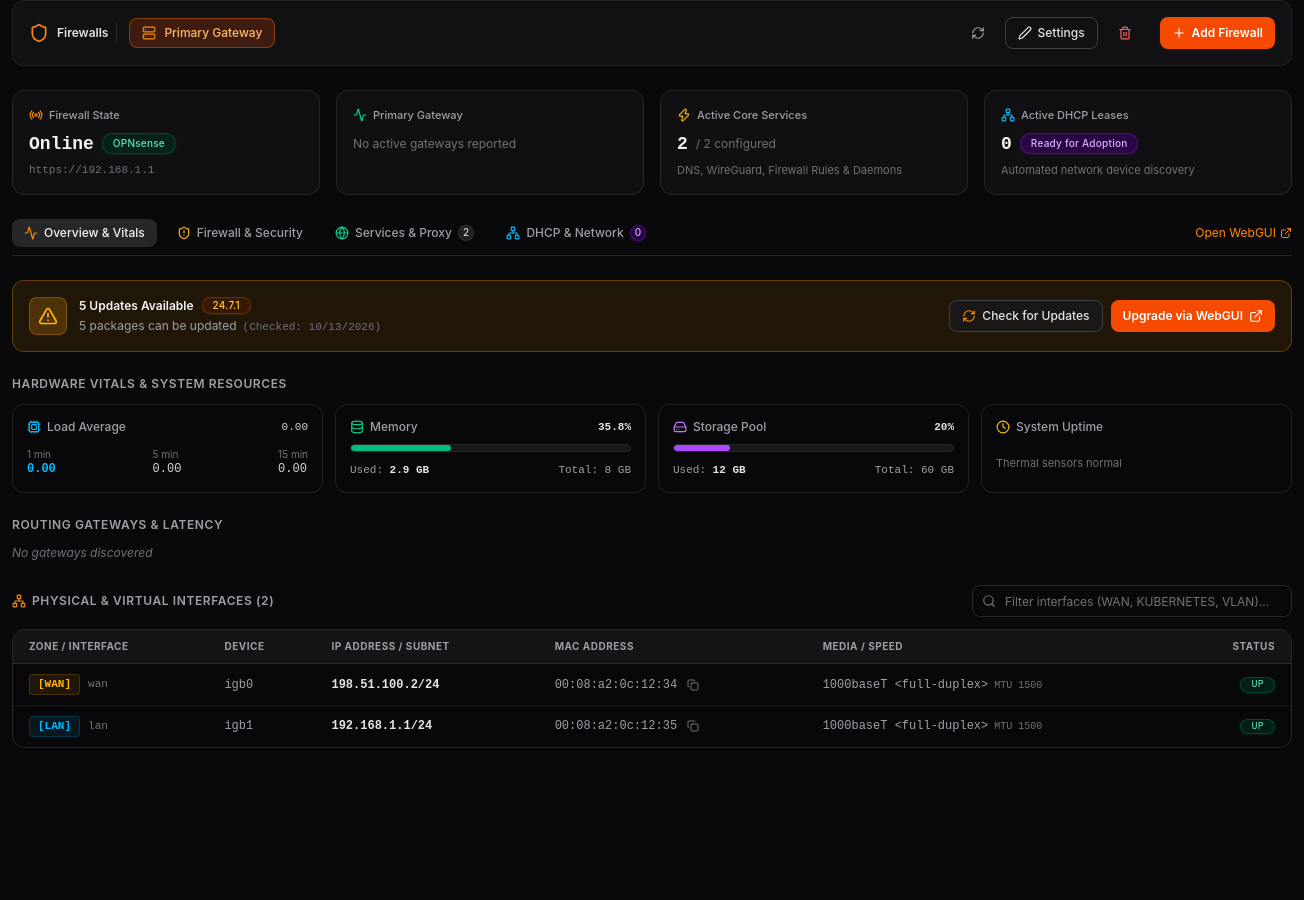
Test: OPNsenseAdaptersView › switches to Firewall & Security tab when clicked
Click the button "Firewall & Security": [240, 233] box [165,219,315,247]
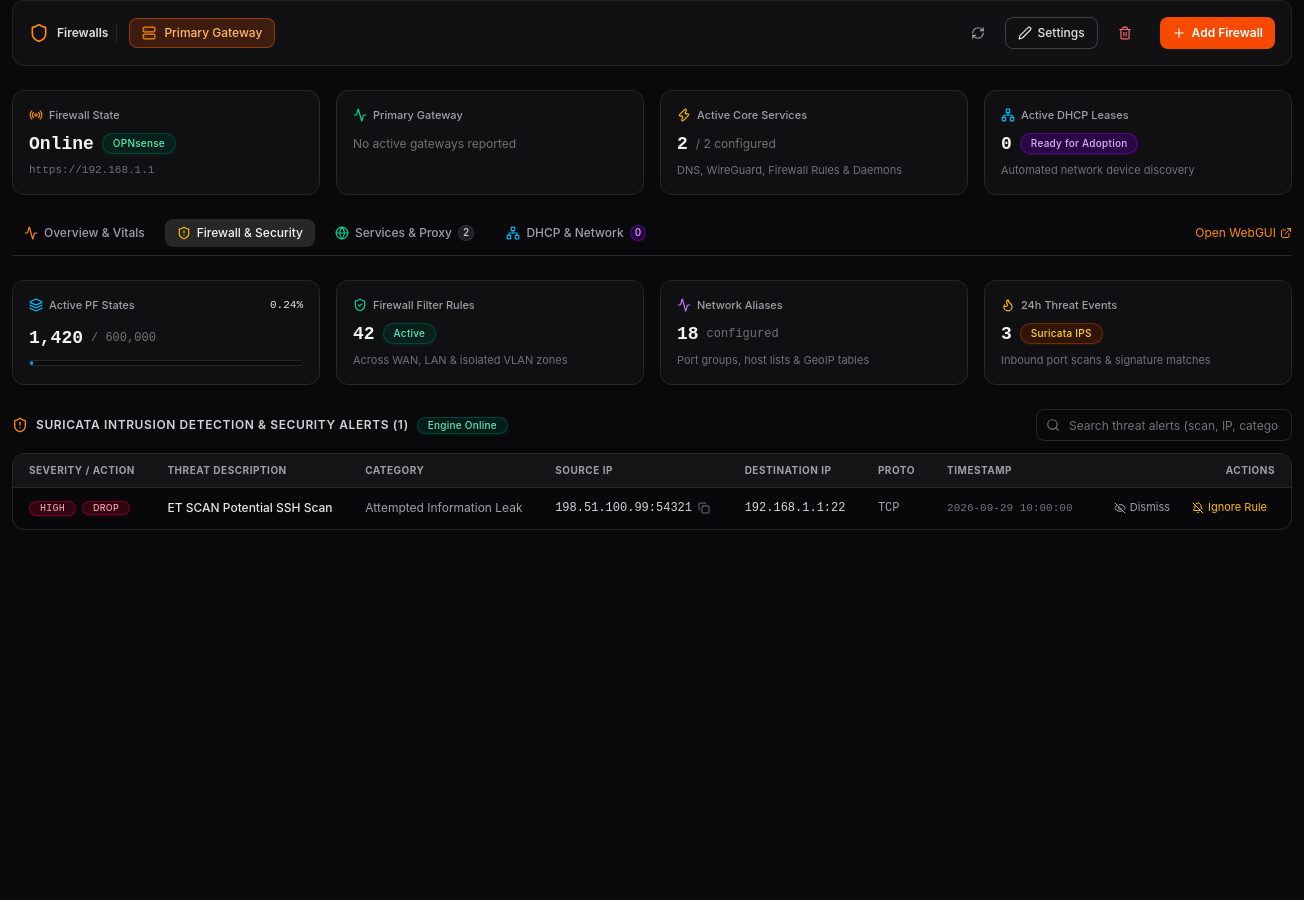
Check: the text "Active PF States" is shown, box [29,297,135,314]
Check: the heading "Suricata Intrusion Detection & Security Alerts (1)" is shown, box [36,417,409,433]
Check: the text "ET SCAN Potential SSH Scan" is shown, box [151,488,349,529]
